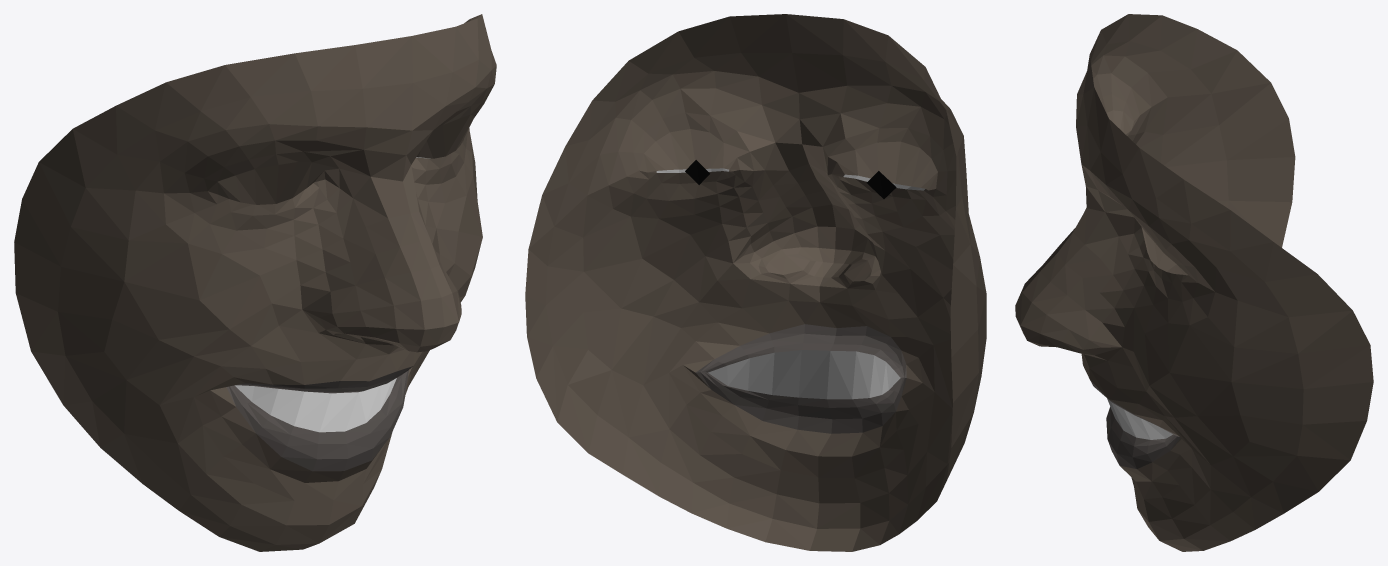
File: IMG_7413.obj
The picture shows the model from 3 angles, left to right: view 1: azimuth 30°, elevation 25°; view 2: azimuth 150°, elevation 25°; view 3: azimuth 270°, elevation 25°; orthographic projection. The views are drawn at different scales.
Parts seen in each view (by area): view 1: face_model_with_iris; view 2: face_model_with_iris; view 3: face_model_with_iris.
Part boxes in pixels (left/top/right/bottom): face_model_with_iris: left=14, top=14, right=496, bottom=551; face_model_with_iris: left=525, top=14, right=986, bottom=551; face_model_with_iris: left=1015, top=14, right=1373, bottom=551.
Bounding box in the file's own units: 0.8415 × 0.9997 × 0.6661.
